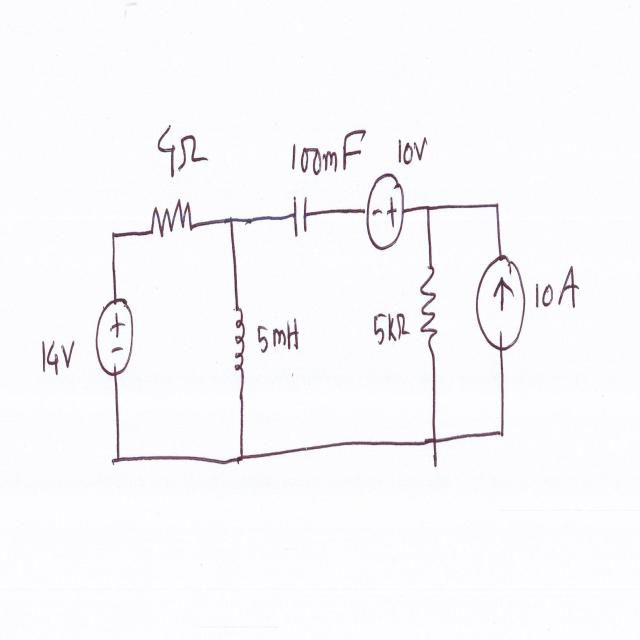capacitor: (291, 190, 311, 242)
current_source: (473, 248, 530, 353)
inductor: (229, 292, 248, 380)
resistor: (146, 202, 198, 248), (416, 262, 442, 351)
voltage_source: (92, 292, 141, 388), (361, 167, 406, 253)
